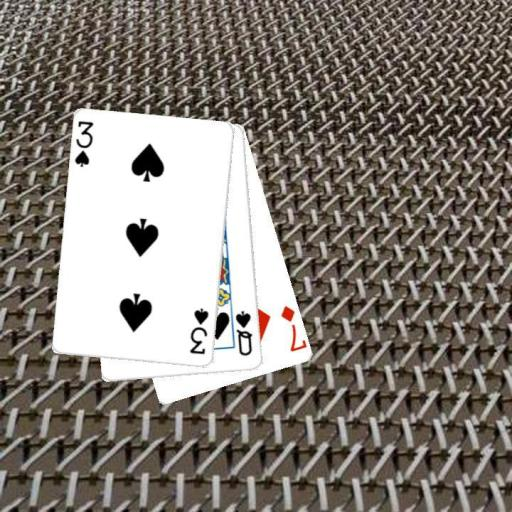3S: (187, 306, 211, 356), (72, 118, 95, 169)
7D: (278, 303, 307, 354)
QS: (233, 308, 255, 358)
